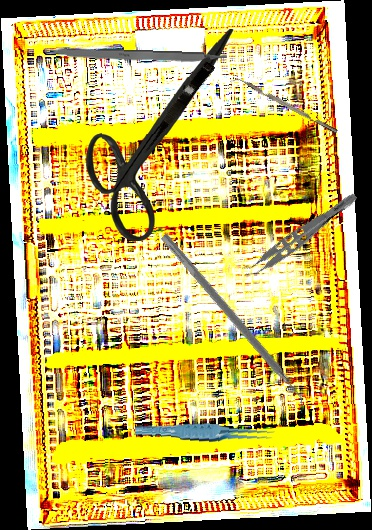Chopper: (229, 73, 339, 139)
Iris Scissors: (82, 26, 236, 243)
Micro Scissor: (137, 59, 216, 157)
Scalpel Handle: (49, 46, 228, 66)
Spatula Surgical: (153, 232, 314, 414)
Tissue Forceps: (240, 183, 360, 284), (134, 415, 275, 451)
